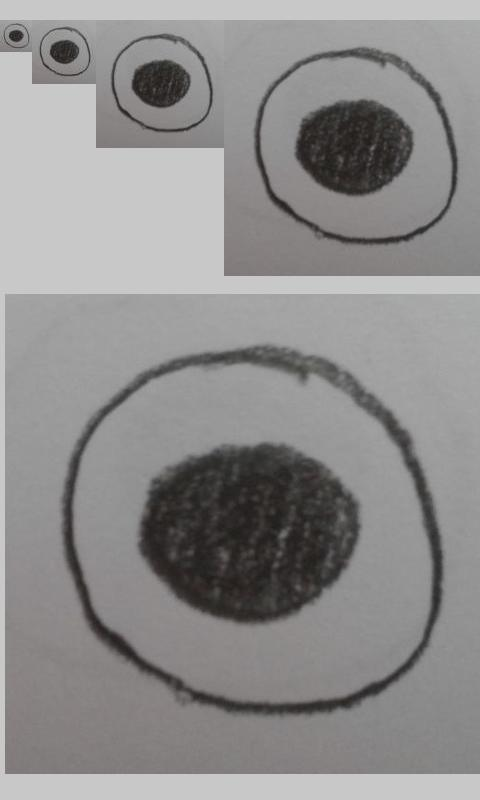radio_button: (57, 345, 446, 718), (253, 45, 459, 246), (111, 33, 214, 133), (38, 25, 92, 77), (2, 22, 30, 49)
